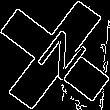N_SW: (24, 23, 86, 87)
